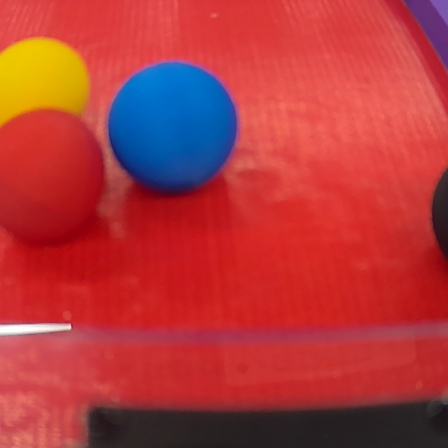blue: (106, 61, 239, 194)
red: (0, 103, 114, 246)
red_aim: (1, 2, 448, 448)
yellow: (0, 35, 91, 130)
